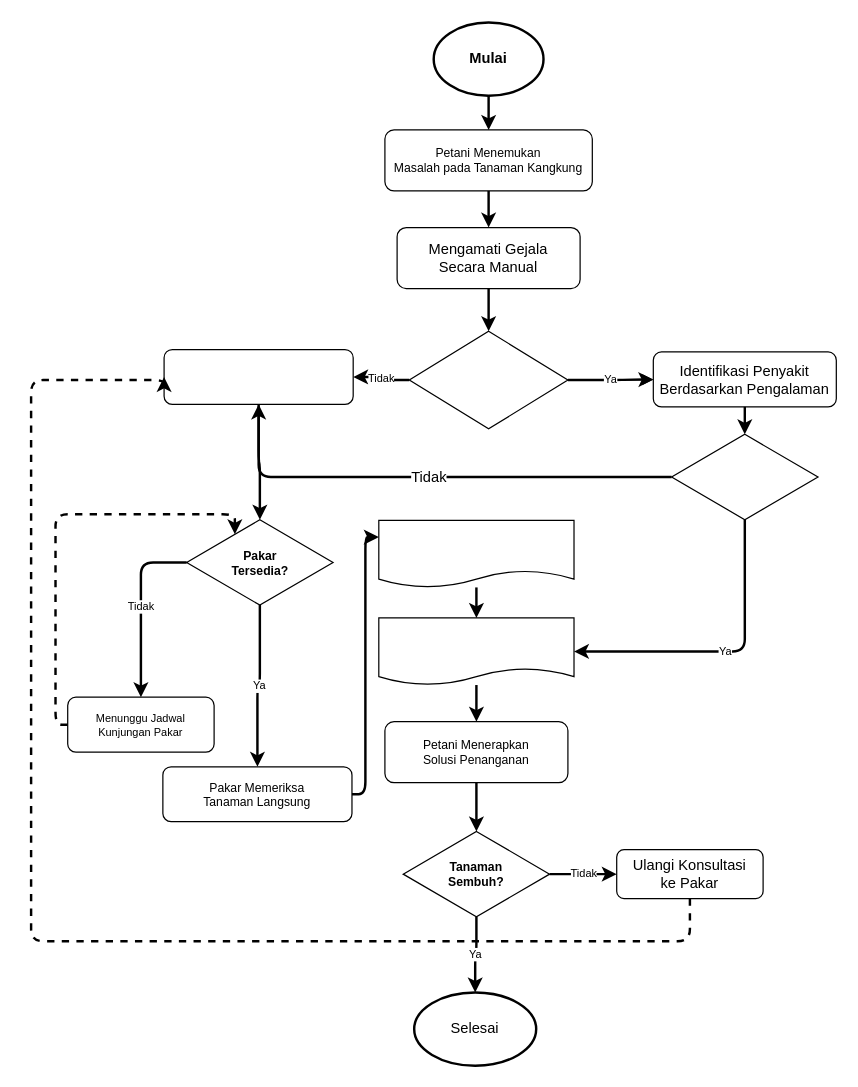
This 858x1087 diagram has some shape labels left out. Each missing label, with the centre of its shape:
"Bisa Identifikasi Sendiri?" belongs at point (488, 379).
"Hasil Akurat?" belongs at point (744, 476).
"Mencari Pakar Pertanian / Penyuluh Lapangan" belongs at point (258, 376).
"Pakar Memberikan Diagnosis Penyakit" belongs at point (476, 553).
"Pakar Memberikan Solusi Penanganan" belongs at point (476, 651).
